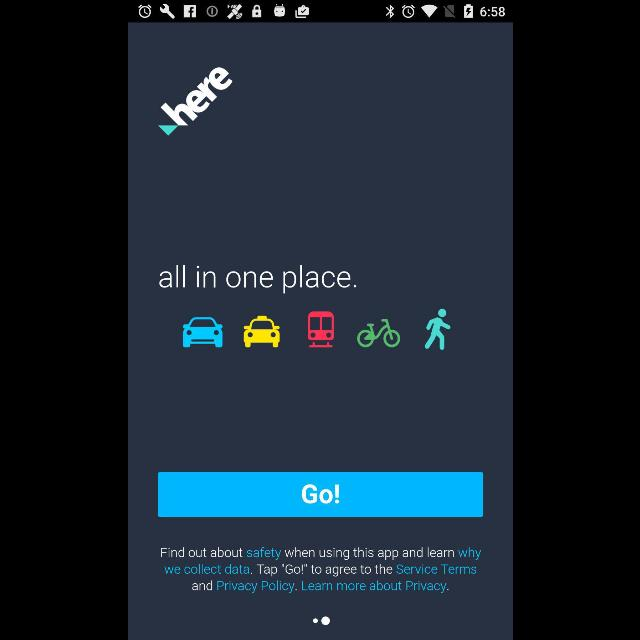image: (156, 67, 232, 136), (356, 318, 400, 348), (182, 316, 222, 348), (242, 316, 280, 348), (424, 308, 451, 350), (306, 310, 334, 348)
pageindicator: (312, 616, 331, 626)
text: (161, 547, 481, 593), (158, 264, 356, 294)
textbutton: (158, 472, 482, 518)
uppertaskbar: (128, 1, 512, 23)
